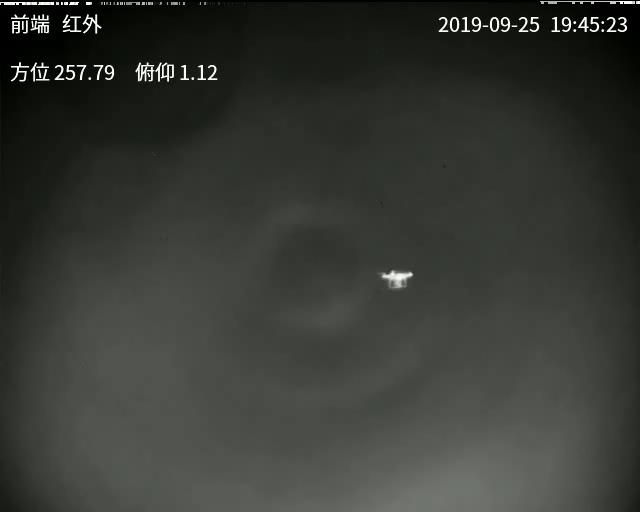uav: (376, 265, 414, 290)
